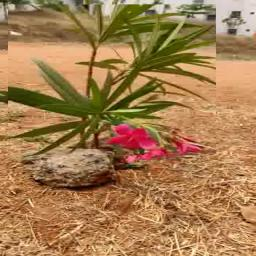OLEANDER: (9, 5, 217, 156)
